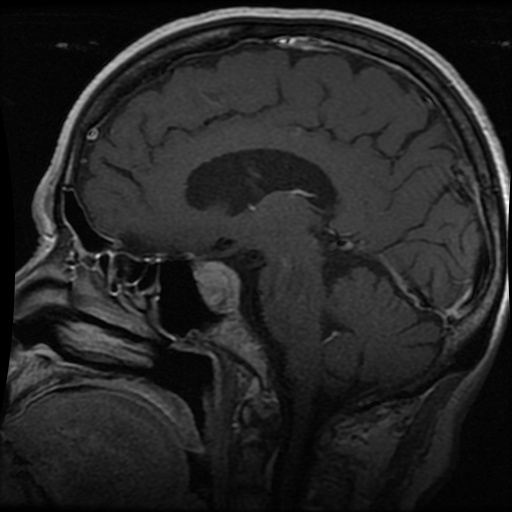pituitary: (192, 260, 241, 311)
